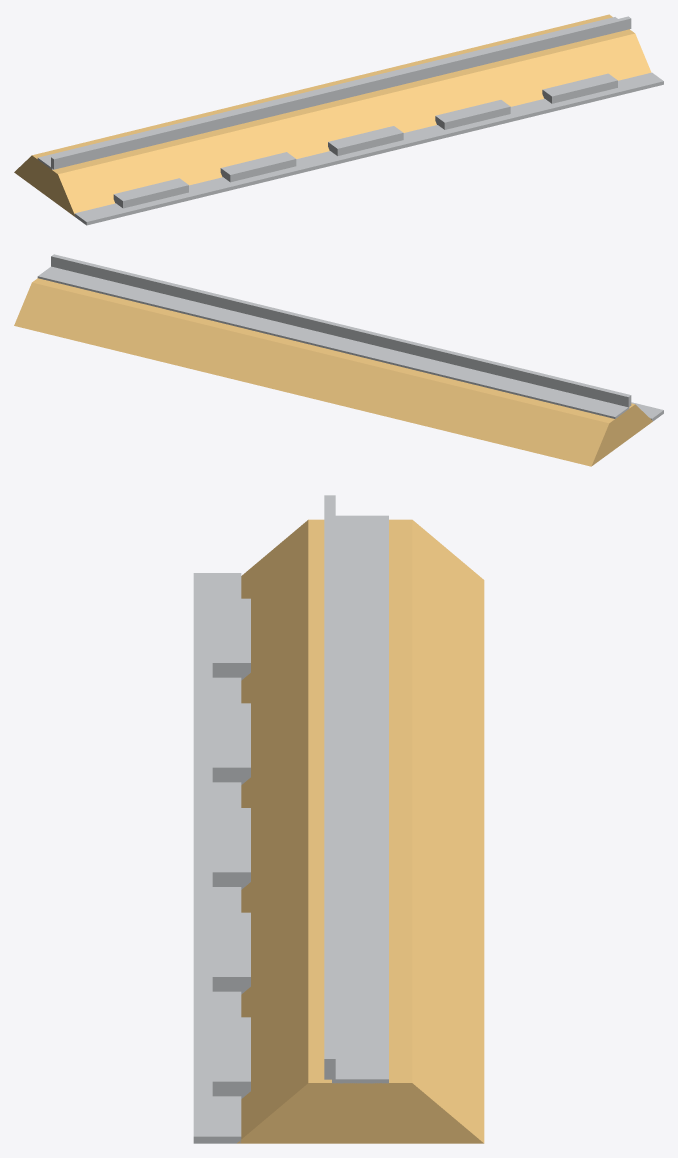
The model's file is flood-barrier.glb.
The picture shows the model from 3 angles, top to bottom: view 1: azimuth 30°, elevation 25°; view 2: azimuth 150°, elevation 25°; view 3: azimuth 270°, elevation 25°; orthographic projection. The views are drawn at different scales.
Parts seen in each view (by area): view 1: embankment, crest-wall, toe-apron, crest-path, block-1, block-0, block-3, block-2, block-4; view 2: embankment, crest-path, crest-wall; view 3: embankment, crest-path, toe-apron, crest-wall, block-0, block-3, block-1, block-4, block-2.
Boxes of the visible parts, <box> form: embankment: <box>14,14,651,216</box>; crest-wall: <box>51,16,631,169</box>; toe-apron: <box>74,72,663,225</box>; crest-path: <box>37,17,617,169</box>; block-1: <box>220,152,296,182</box>; block-0: <box>113,178,188,208</box>; block-3: <box>435,100,510,129</box>; block-2: <box>328,126,403,155</box>; block-4: <box>542,73,617,103</box>; embankment: <box>14,278,652,466</box>; crest-path: <box>37,266,629,418</box>; crest-wall: <box>51,254,631,407</box>; embankment: <box>237,519,484,1143</box>; crest-path: <box>332,515,388,1083</box>; toe-apron: <box>193,573,241,1143</box>; crest-wall: <box>324,495,335,1079</box>; block-0: <box>212,598,250,680</box>; block-3: <box>212,912,250,994</box>; block-1: <box>212,703,250,784</box>; block-4: <box>212,1017,250,1098</box>; block-2: <box>212,808,250,889</box>.
Size of the model in its own units: 140 by 9.8 by 30.5.
